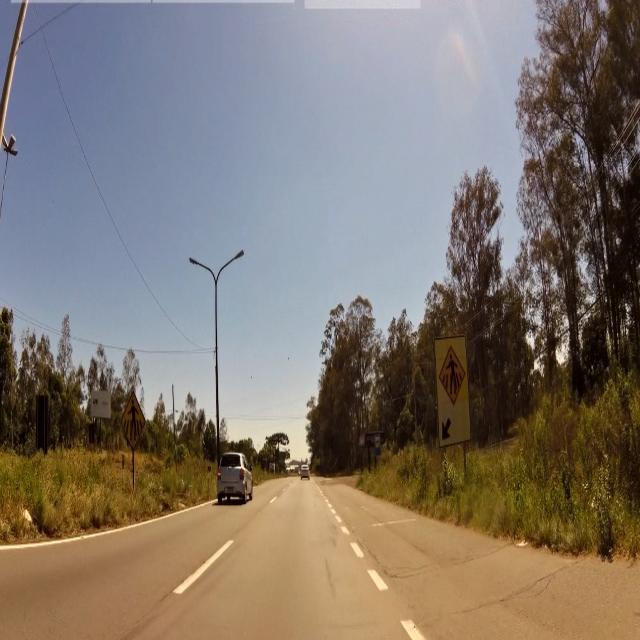A-32b: (440, 345, 466, 408)
